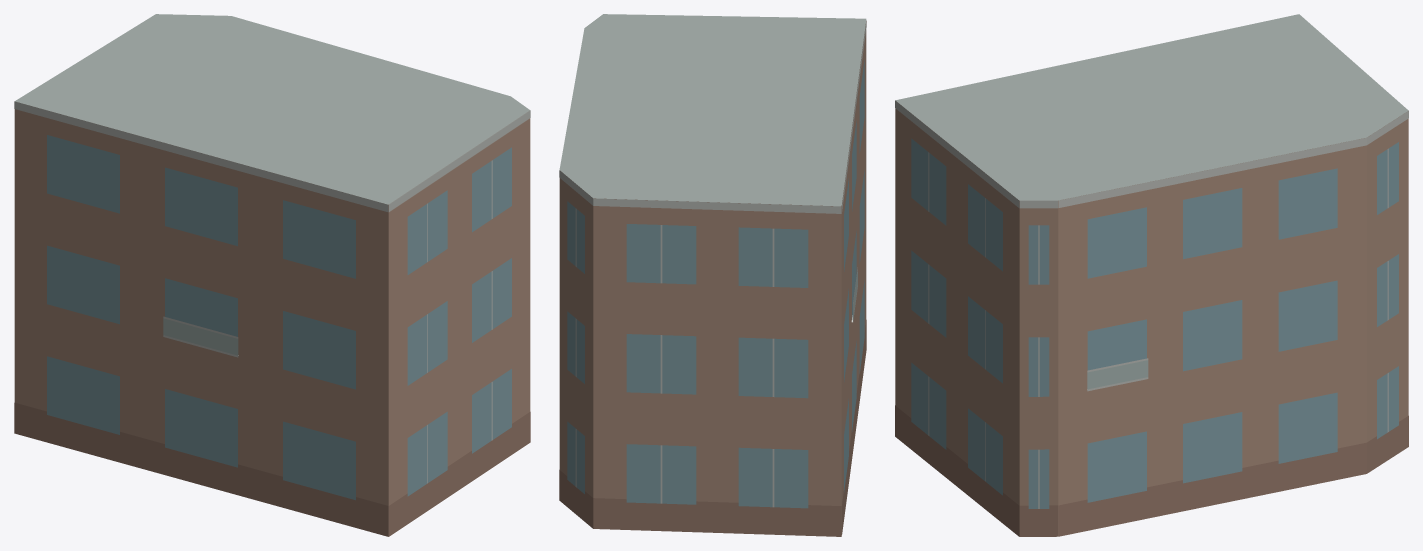
Rendered from survey-upis-32724069.glb.
3 views of the same model, side by side, from view 1: azimuth 30°, elevation 25°; view 2: azimuth 150°, elevation 25°; view 3: azimuth 270°, elevation 25° (orthographic).
Parts seen in each view (by area): view 1: survey-upis-32724069.tmp; view 2: survey-upis-32724069.tmp; view 3: survey-upis-32724069.tmp.
Part boxes in pixels (x1,y1,x2,y2): survey-upis-32724069.tmp: [14, 14, 530, 536]; survey-upis-32724069.tmp: [559, 14, 866, 536]; survey-upis-32724069.tmp: [895, 14, 1408, 536].
Bounding box in the file's own units: 12.63 × 10.6 × 14.69.
